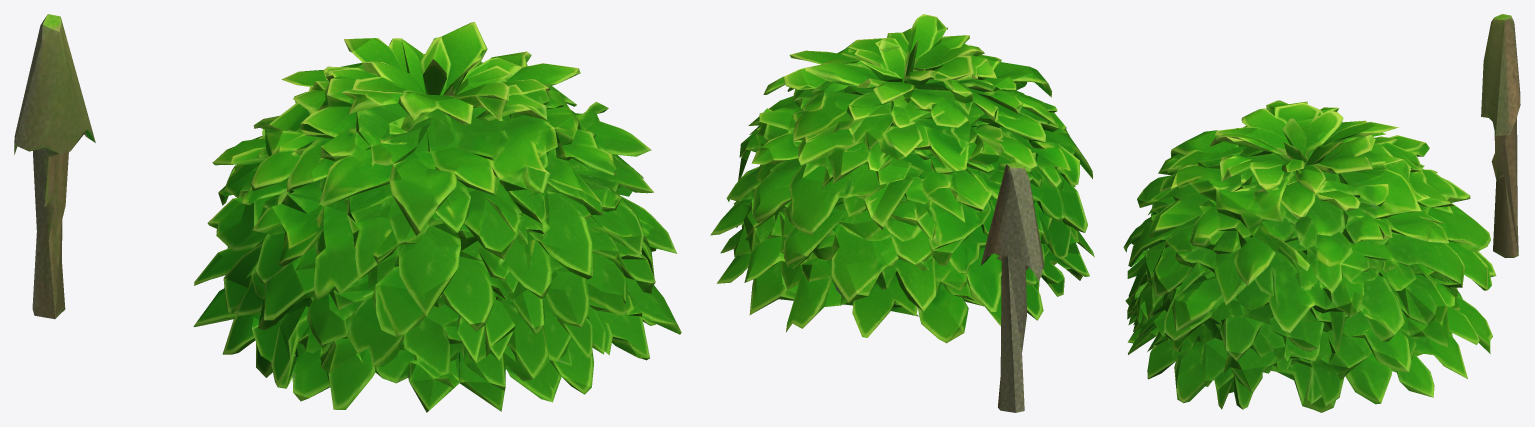
The model's file is bush.glb.
3 views of the same model, side by side, from view 1: azimuth 30°, elevation 25°; view 2: azimuth 150°, elevation 25°; view 3: azimuth 270°, elevation 25° (orthographic). The views are drawn at different scales.
Bounding box in the file's own units: 1.9 × 1.09 × 1.65.
Materials: 1 (1 with a texture image).
